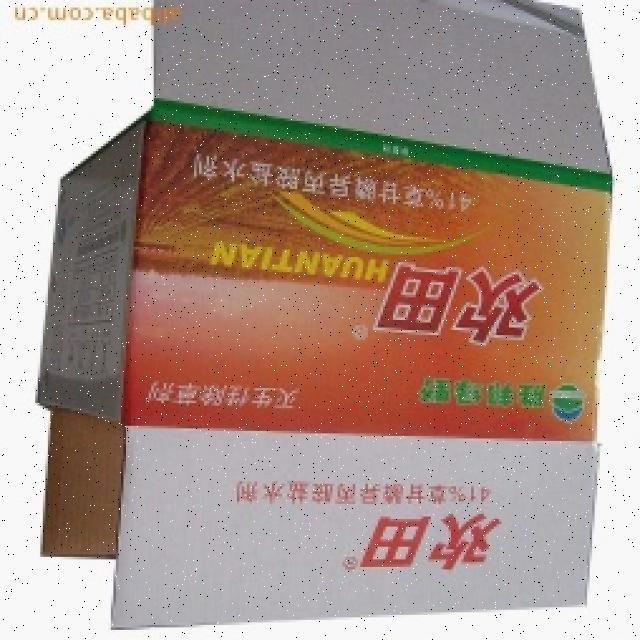box: (12, 0, 618, 625)
